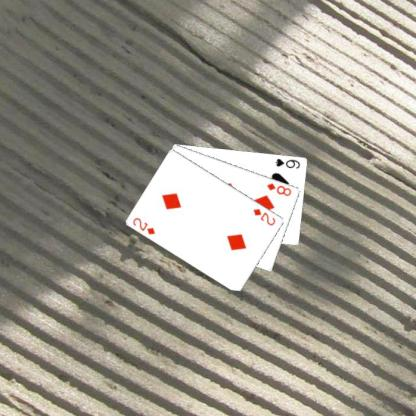2D: (251, 206, 277, 227), (130, 215, 156, 236)
6S: (272, 155, 302, 170)
8D: (264, 180, 293, 197)
